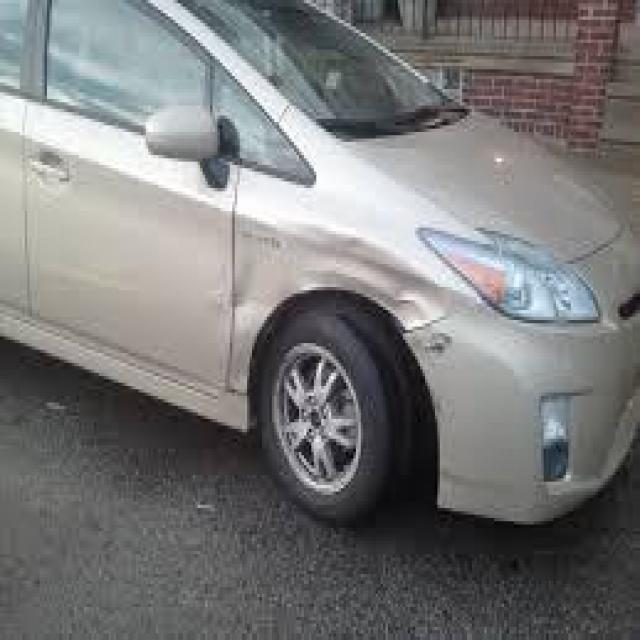damaged: (230, 231, 450, 360)
